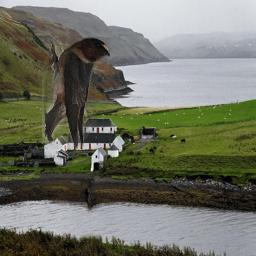Swallow: (42, 37, 110, 149)
